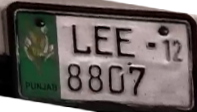0: (106, 65, 126, 94)
7: (127, 64, 147, 96)
8: (65, 63, 84, 93), (86, 63, 105, 93)
E: (93, 24, 114, 57), (115, 25, 136, 58)
L: (68, 22, 92, 57)
